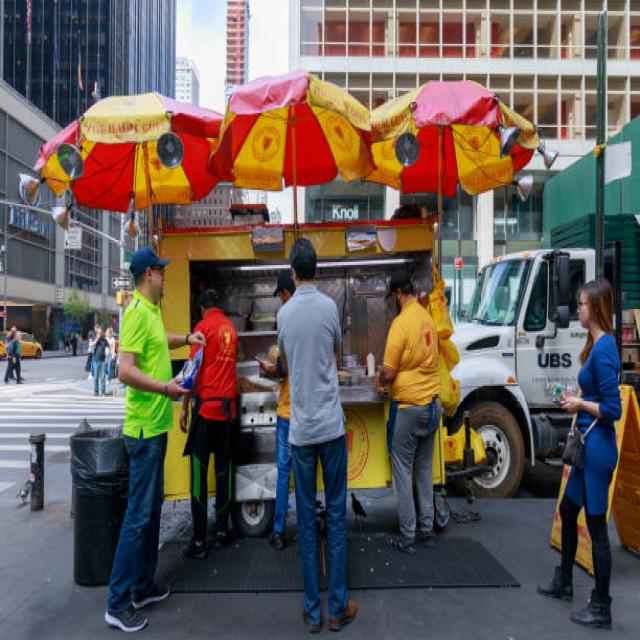Emperan: (57, 71, 562, 604)
